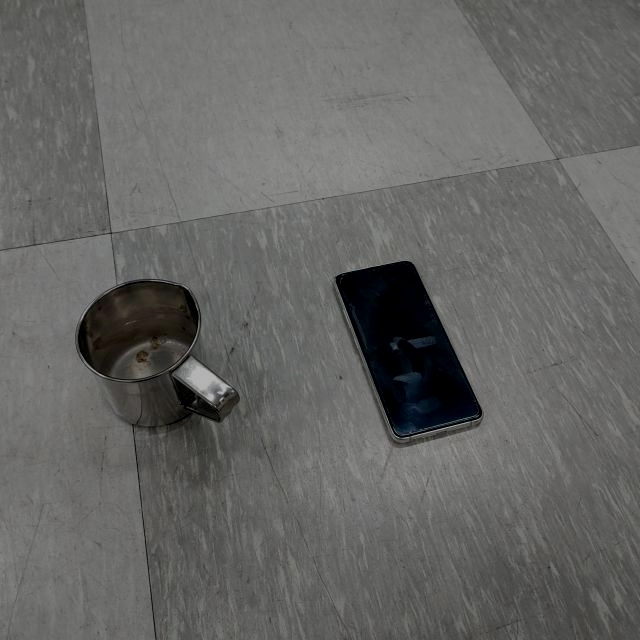cup: (76, 279, 240, 430)
phone: (331, 258, 484, 446)
